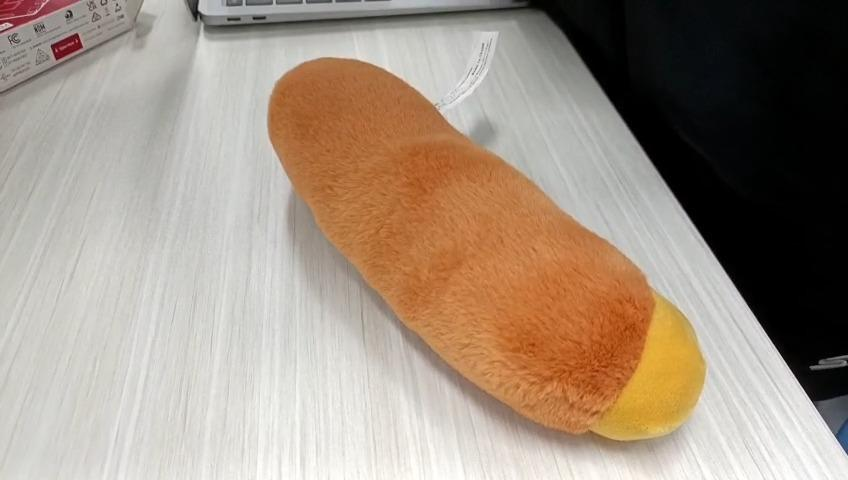hotdog: (268, 56, 706, 443)
